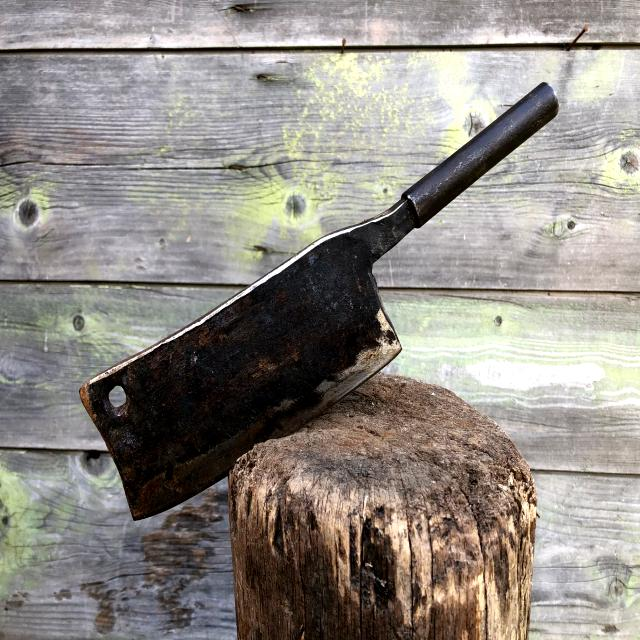cleaver: (73, 83, 569, 524)
